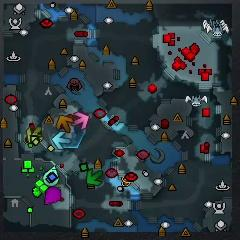p2: (43, 166, 59, 187)
p3: (44, 187, 61, 205)
x1: (72, 112, 89, 129)
x2: (26, 127, 43, 146)
x3: (52, 131, 71, 150)
x4: (87, 168, 103, 185)
x5: (57, 115, 73, 133)
